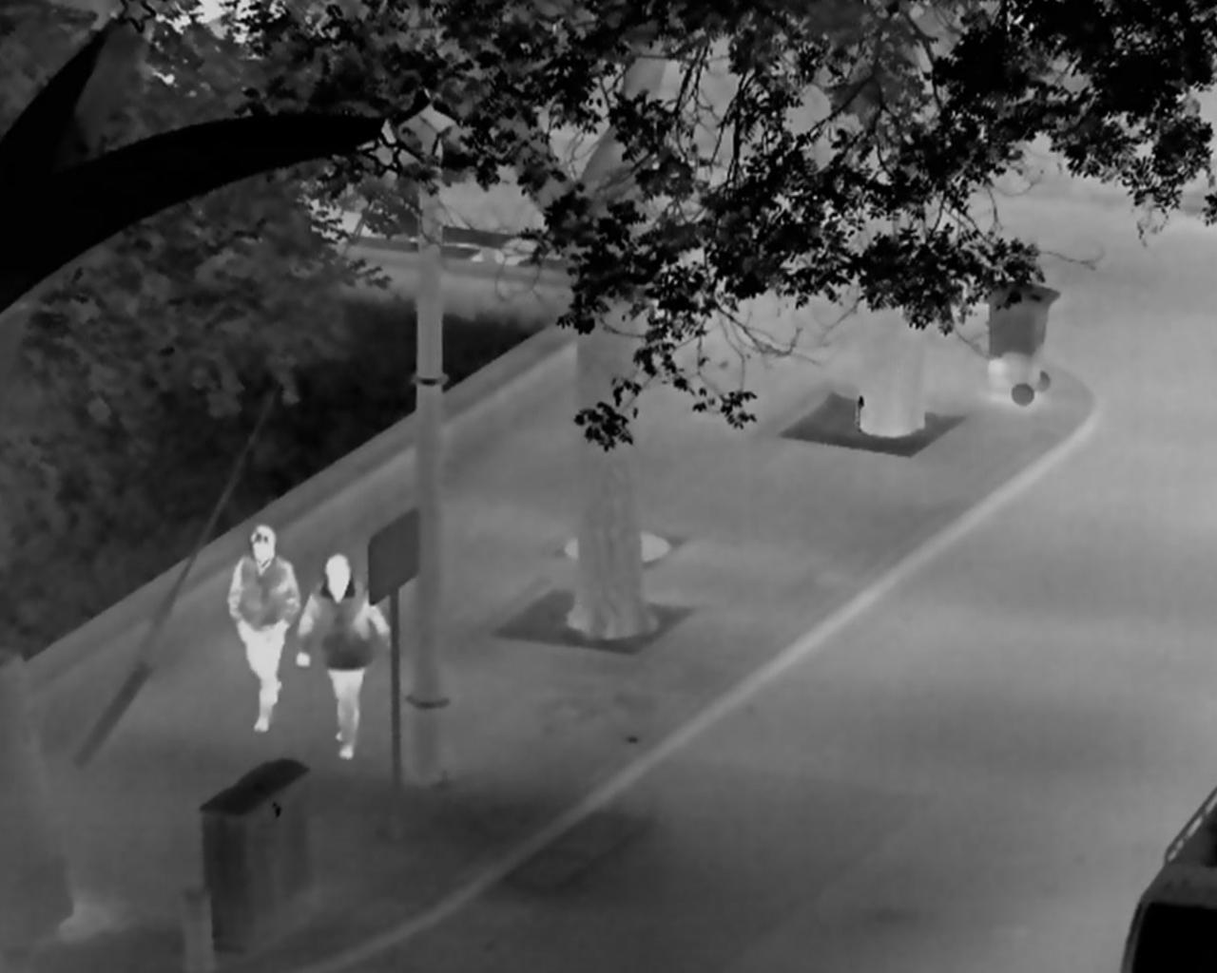person: (296, 553, 392, 761), (226, 523, 301, 733)
